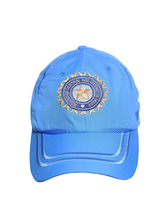other: (25, 44, 145, 181)
